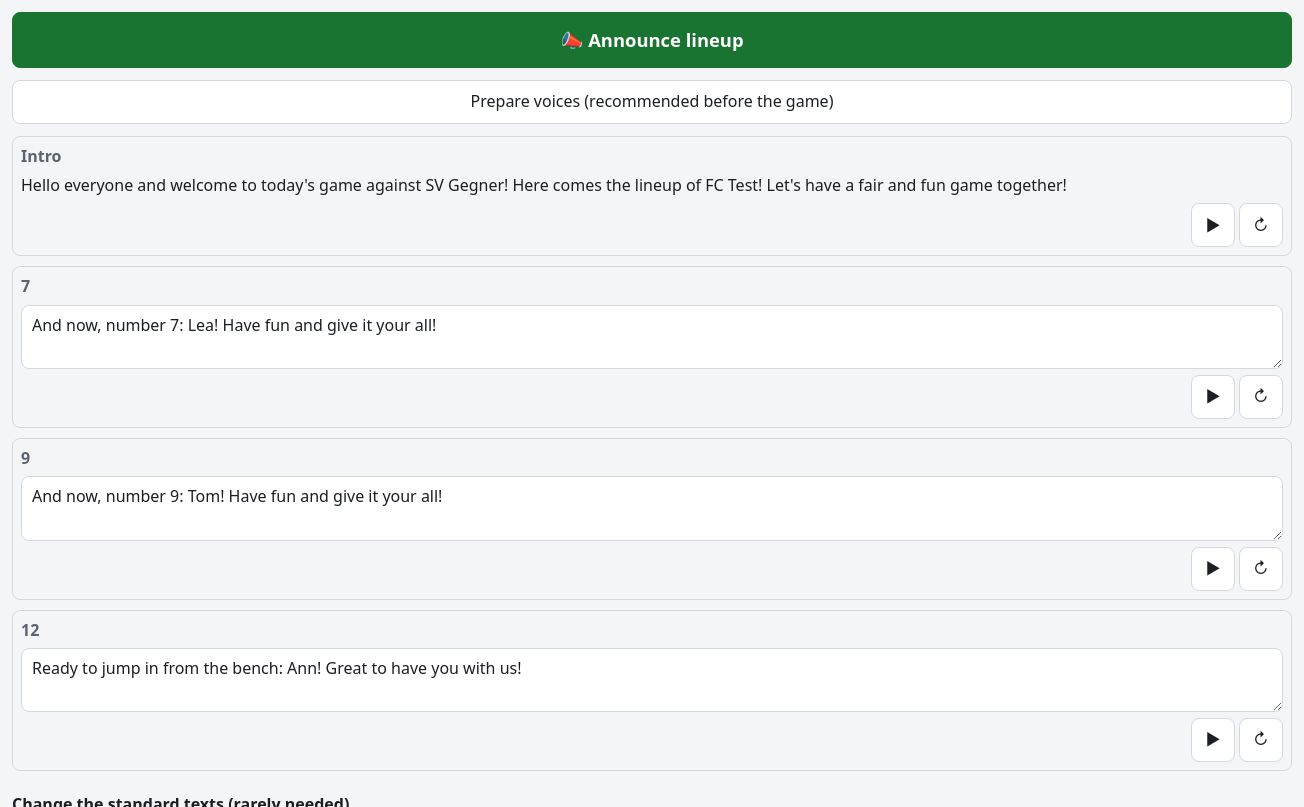
Test case: a failing ↻ shows the error and keeps the old clip (still Ready)
This screenshot has width=1304, height=807.
Click the button "Prepare voices (recommended before the game)". click: (652, 102)
box: 12,80 -> 1292,124
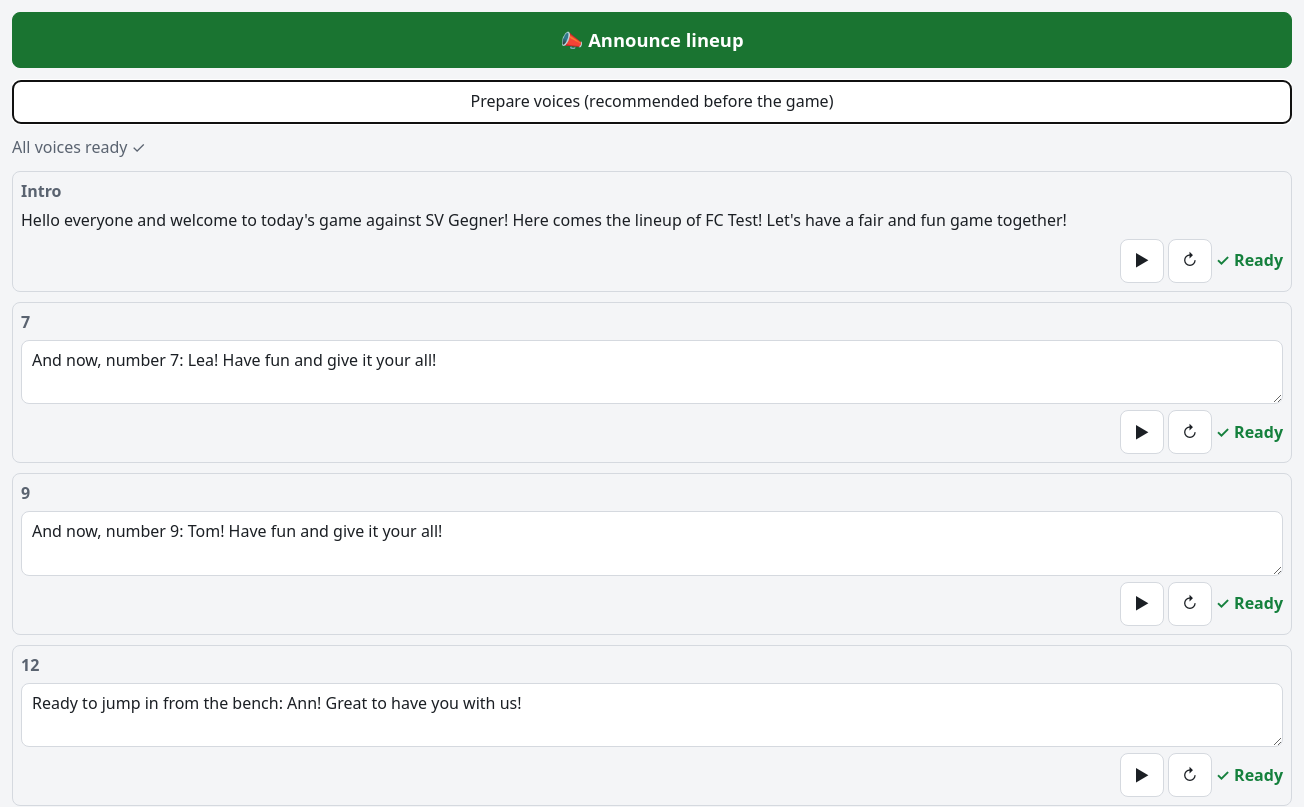
Click the button named "Regenerate Lea". click: (1190, 432)
box: 1168,410 -> 1212,454
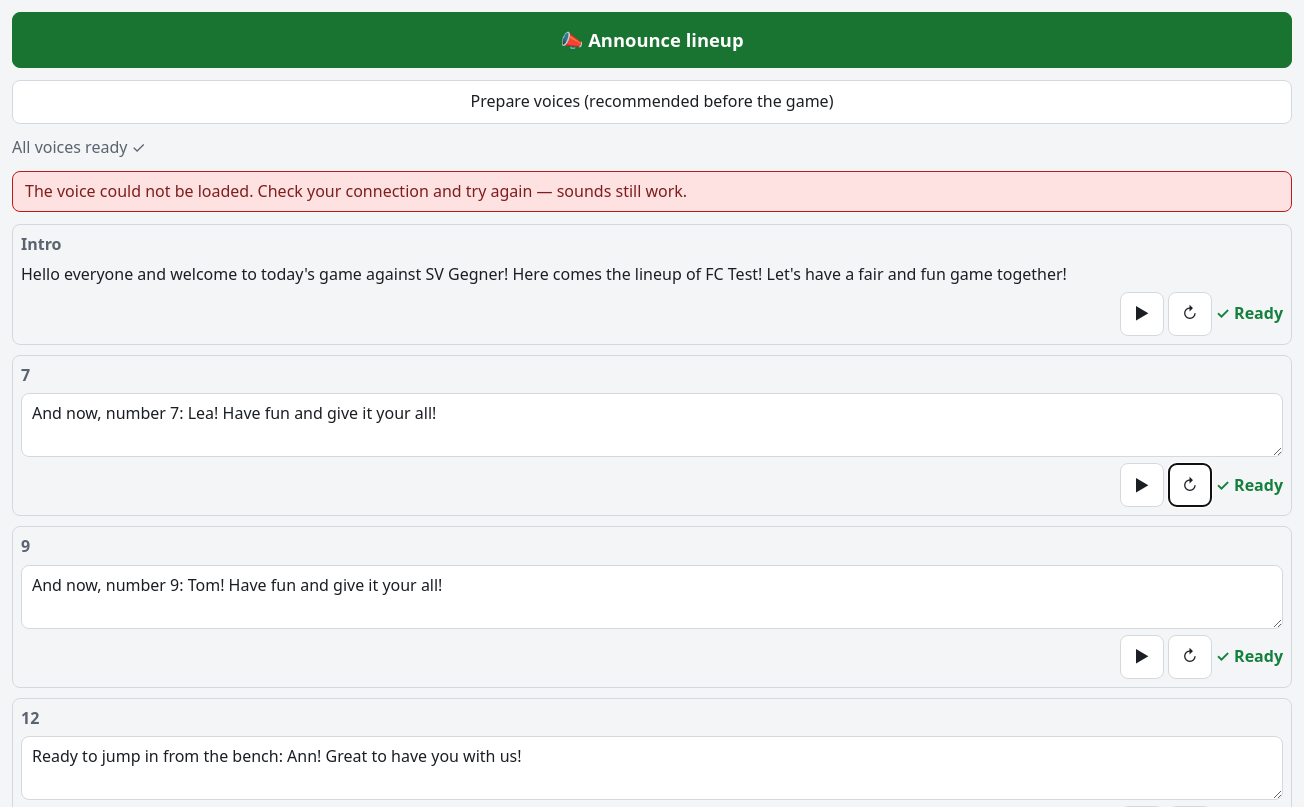
expect the 2nd text "✓ Ready" is shown: met, box 1216,474 -> 1283,497
expect the 2nd message is shown: met, box 12,171 -> 1292,212
